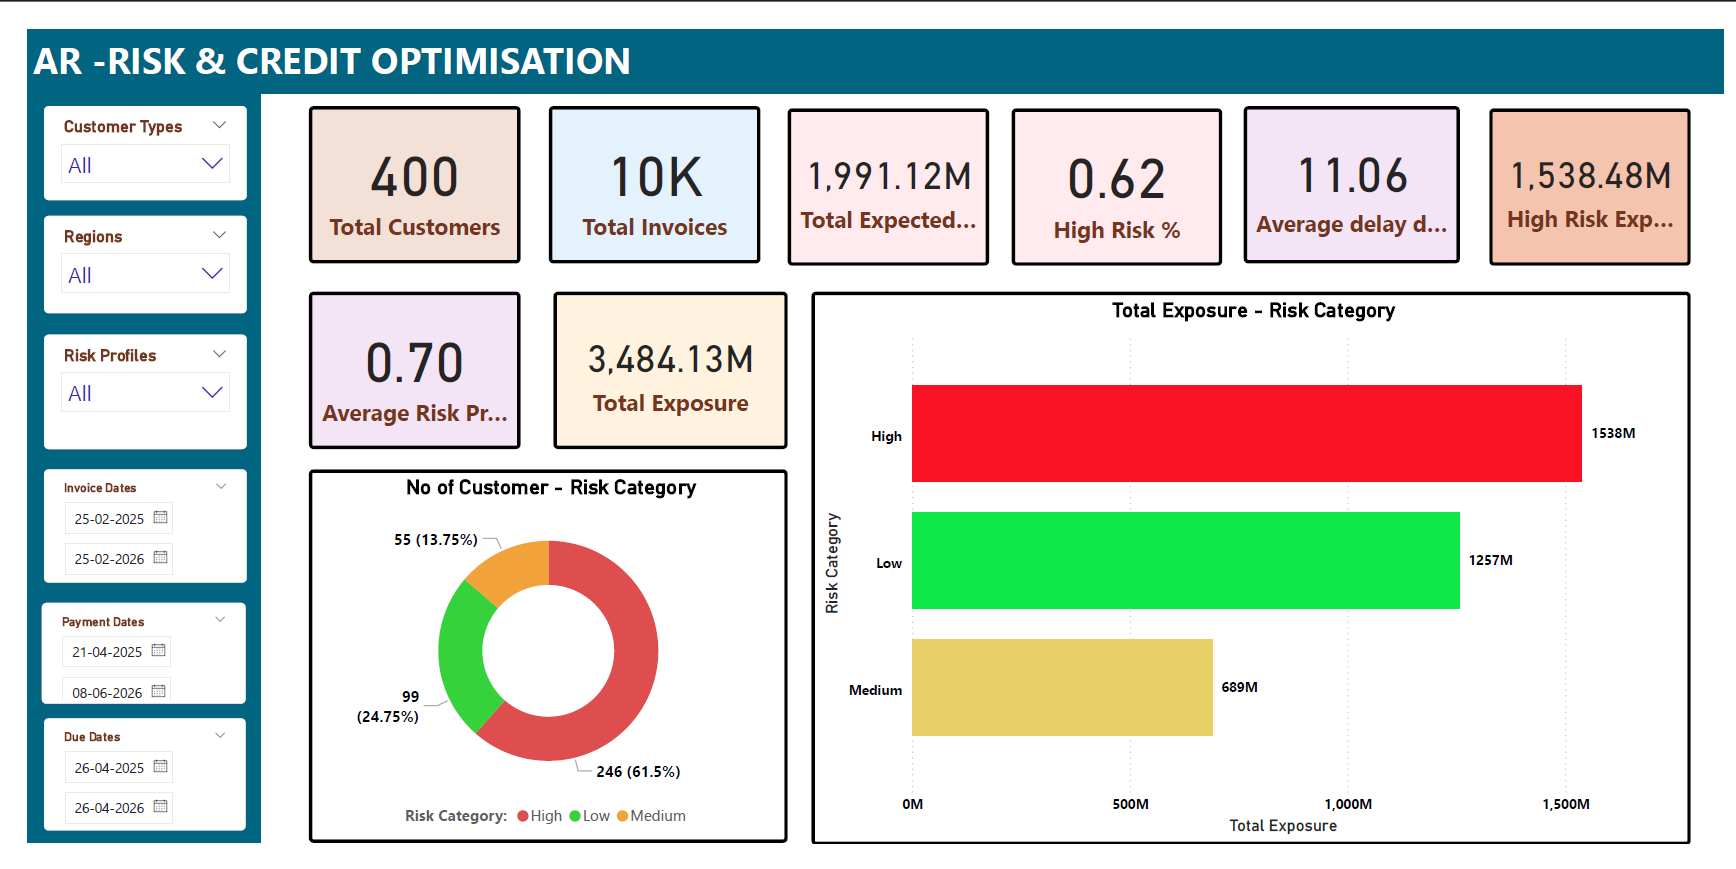

Layout of this report page (visuals, bound fields, positions):
{"tool":"powerbi","page":{"name":"Executive_Overview","canvas":[1500,720],"ordinal":0},"visuals":[{"type":"textbox","box":[0,0,1499.4,56.7],"z":0},{"type":"textbox","box":[0,56.7,205.6,662.3],"z":1000},{"type":"card","fields":{"Values":["ar_risk_system customer_risk_output.Total Exposure"]},"box":[464.7,231.5,207.3,139.3],"z":2000},{"type":"card","fields":{"Values":["ar_risk_system customer_risk_output.High Risk Exposure"]},"box":[1292.1,69.6,178.1,139.3],"z":3000},{"type":"card","fields":{"Values":["ar_risk_system customer_risk_output.Total Expected Loss"]},"box":[672,69.6,178.1,139.3],"z":4000},{"type":"card","fields":{"Values":["ar_risk_system customer_risk_output.High Risk %"]},"box":[869.5,69.6,186.2,139.3],"z":5000},{"type":"card","fields":{"Values":["ar_risk_system customer_risk_output.Average Risk Probability"]},"box":[249.4,231.5,186.2,139.3],"z":6000},{"type":"card","fields":{"Values":["CountNonNull(ar_risk_system customers.customer_id)"]},"box":[249.4,68,186.2,139.3],"z":7000},{"type":"card","fields":{"Values":["CountNonNull(ar_risk_system invoices.invoice_id)"]},"box":[461.5,68,186.2,139.3],"z":8000},{"type":"card","fields":{"Values":["Avg(ar_risk_system customer_risk_output.avg_delay)"]},"box":[1075.2,68,191.1,139.3],"z":9000},{"type":"slicer","fields":{"Values":["ar_risk_system customers.customer_type"]},"box":[14.6,68,179.7,82.6],"z":10000},{"type":"slicer","fields":{"Values":["ar_risk_system customers.region"]},"box":[14.6,165.2,179.7,85.8],"z":11000},{"type":"slicer","fields":{"Values":["ar_risk_system customers.risk_profile"]},"box":[14.6,270.4,179.7,100.4],"z":12000},{"type":"slicer","fields":{"Values":["ar_risk_system invoices.invoice_date"]},"box":[14.6,388.6,179.7,100.4],"z":13000},{"type":"slicer","fields":{"Values":["ar_risk_system payments.payment_date"]},"box":[13,506.8,179.7,89.1],"z":14000},{"type":"donutChart","title":"No of Customer - Risk Category","fields":{"Category":["ar_risk_system customer_risk_output.risk_category"],"Y":["CountNonNull(ar_risk_system customer_risk_output.customer_id)"]},"box":[249.4,388.6,422.6,330.3],"z":15000},{"type":"slicer","fields":{"Values":["ar_risk_system invoices.due_date"]},"box":[14.6,608.8,178.1,98.8],"z":16000},{"type":"clusteredBarChart","title":"Total Exposure - Risk Category","fields":{"Category":["ar_risk_system customer_risk_output.risk_category"],"Y":["ar_risk_system customer_risk_output.Total Exposure"]},"box":[693,231.5,777.2,489],"z":17000}]}

Visuals, with their boxes in screenshot pixels (x1, y1, x2, y2):
textbox: 18, 23, 1729, 87
textbox: 18, 87, 253, 843
card - ar_risk_system customer_risk_output.Total Exposure: 548, 287, 785, 446
card - ar_risk_system customer_risk_output.High Risk Exposure: 1493, 102, 1696, 261
card - ar_risk_system customer_risk_output.Total Expected Loss: 785, 102, 988, 261
card - ar_risk_system customer_risk_output.High Risk %: 1010, 102, 1223, 261
card - ar_risk_system customer_risk_output.Average Risk Probability: 303, 287, 515, 446
card - CountNonNull(ar_risk_system customers.customer_id): 303, 100, 515, 259
card - CountNonNull(ar_risk_system invoices.invoice_id): 545, 100, 757, 259
card - Avg(ar_risk_system customer_risk_output.avg_delay): 1245, 100, 1463, 259
slicer - ar_risk_system customers.customer_type: 35, 100, 240, 194
slicer - ar_risk_system customers.region: 35, 211, 240, 309
slicer - ar_risk_system customers.risk_profile: 35, 331, 240, 446
slicer - ar_risk_system invoices.invoice_date: 35, 466, 240, 581
slicer - ar_risk_system payments.payment_date: 33, 601, 238, 703
"No of Customer - Risk Category" donutChart: 303, 466, 785, 843
slicer - ar_risk_system invoices.due_date: 35, 717, 238, 830
"Total Exposure - Risk Category" clusteredBarChart: 809, 287, 1696, 845
